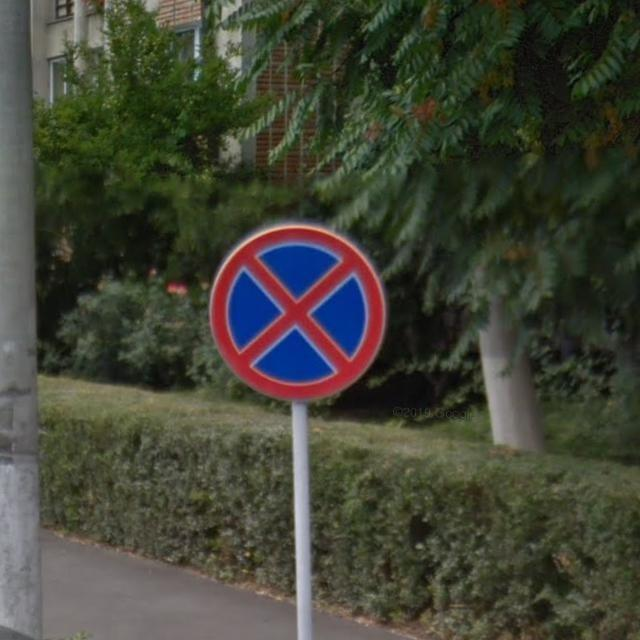forb_waiting: (208, 225, 386, 401)
